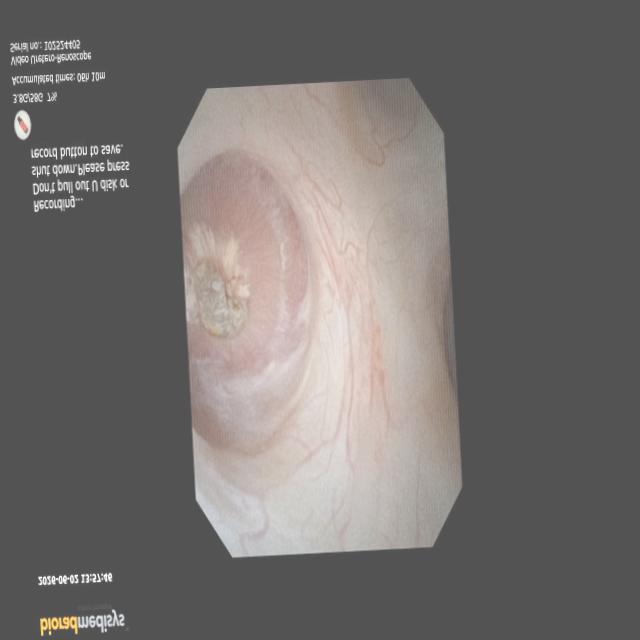stone-new: (192, 261, 247, 339)
